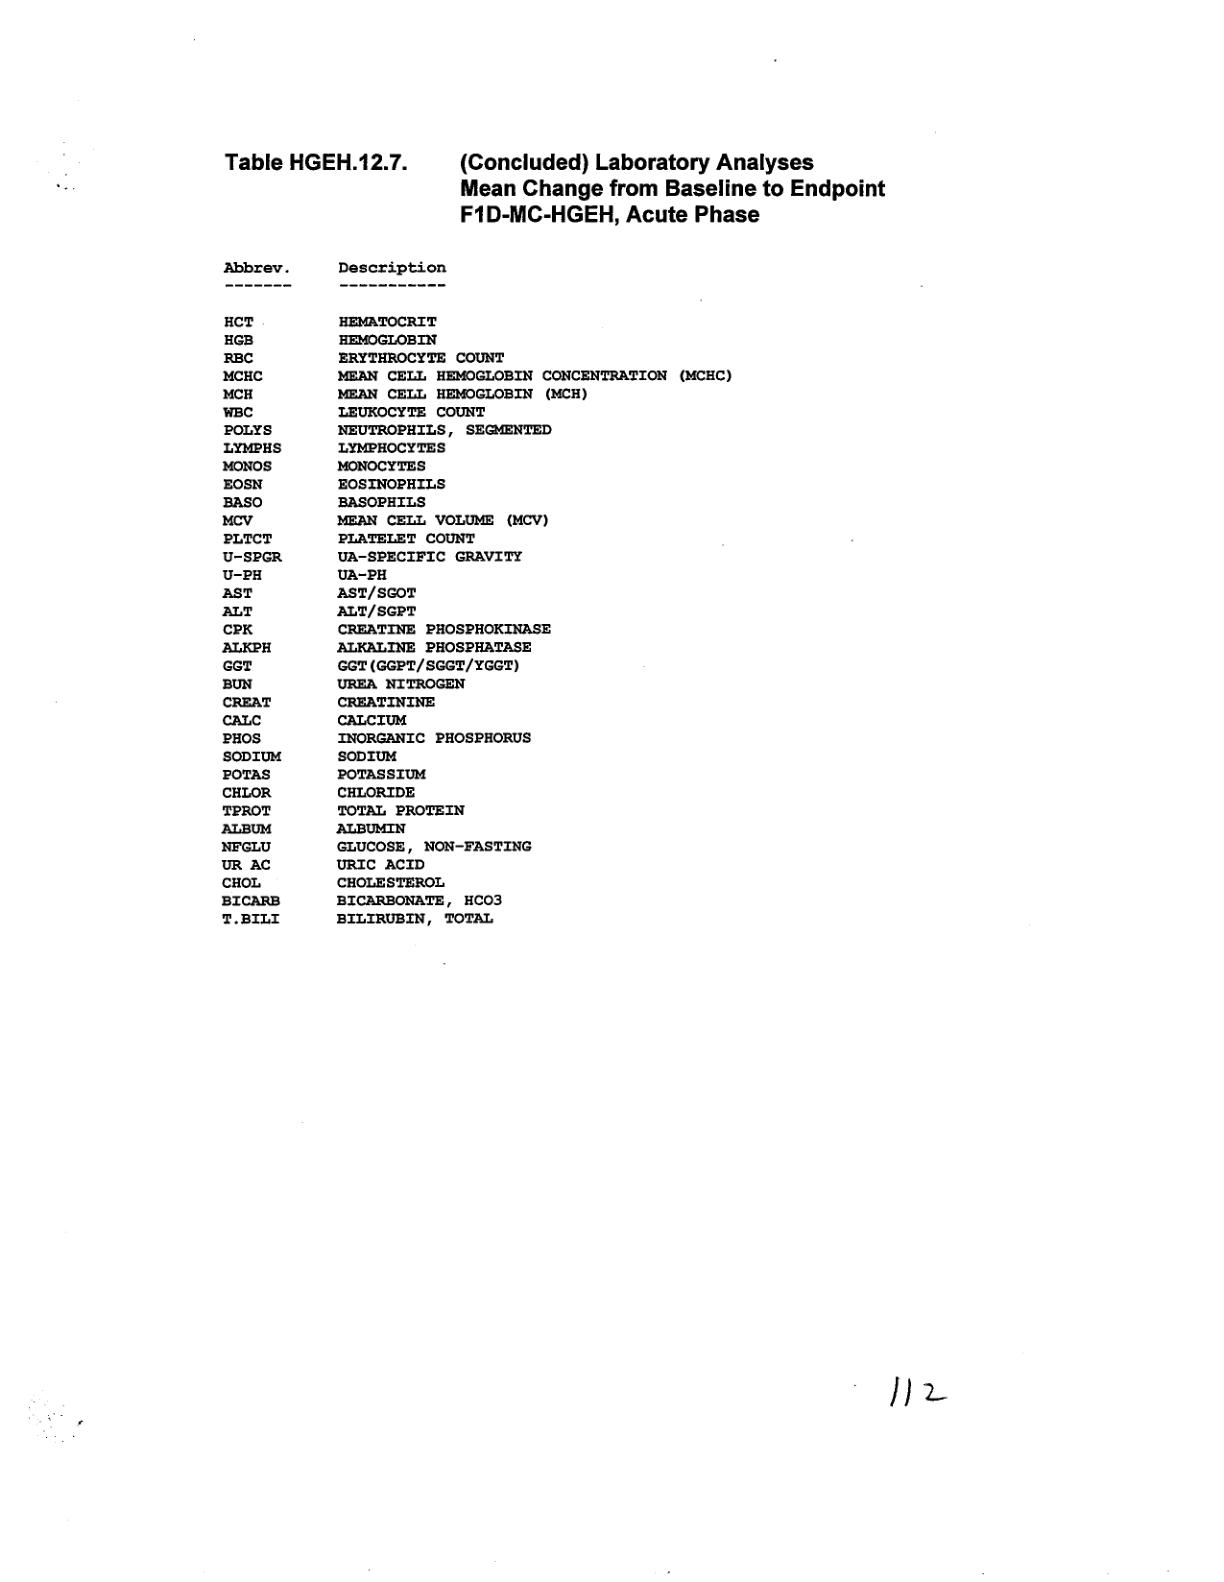nolines: (220, 253, 739, 936)
